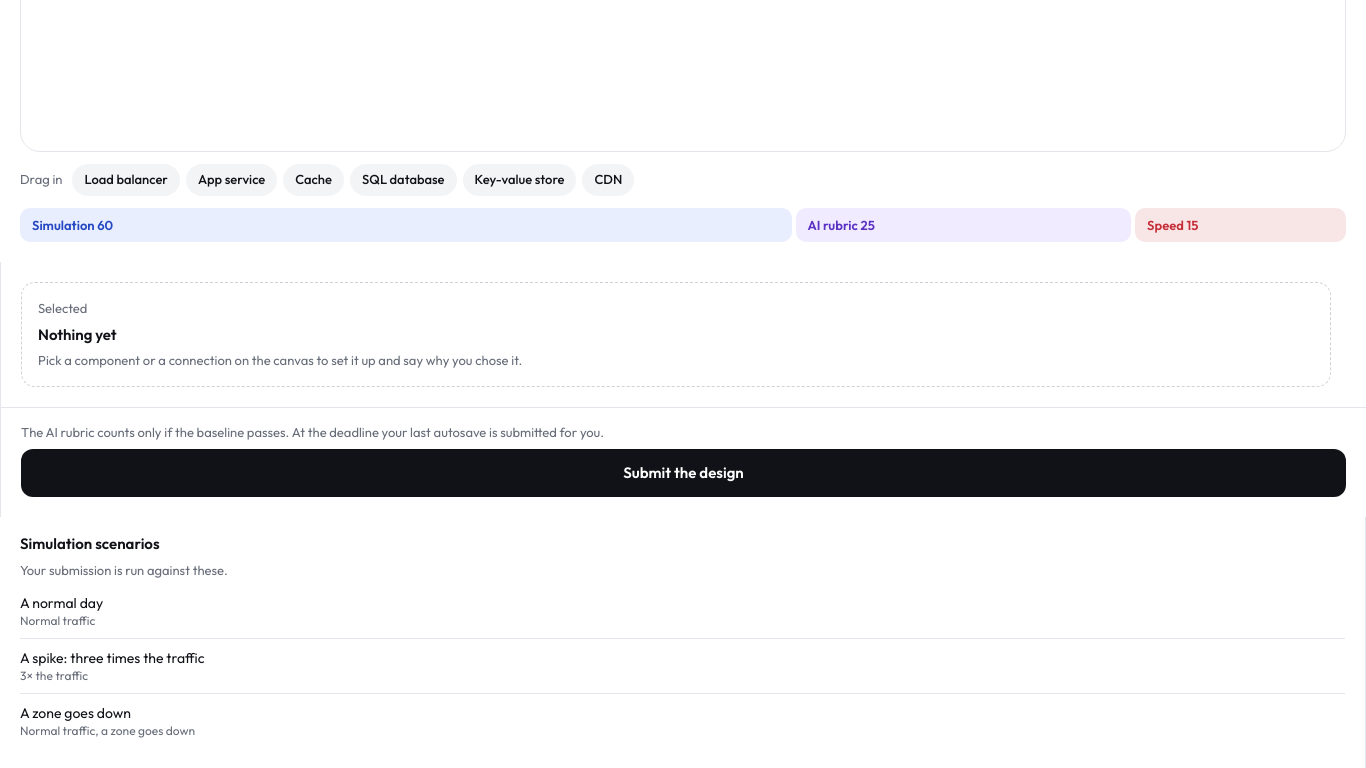
Test: a match: no verdicts before the submit, the submission's verdicts after it
(page scrolled)
expect the text "simulation points" is not shown: met
What coordinates should you click on to do the following:
click the button "Submit the design"
I would click on:
 (684, 473)
Its box is x1=21 y1=449 x2=1346 y2=497.
(page scrolled)
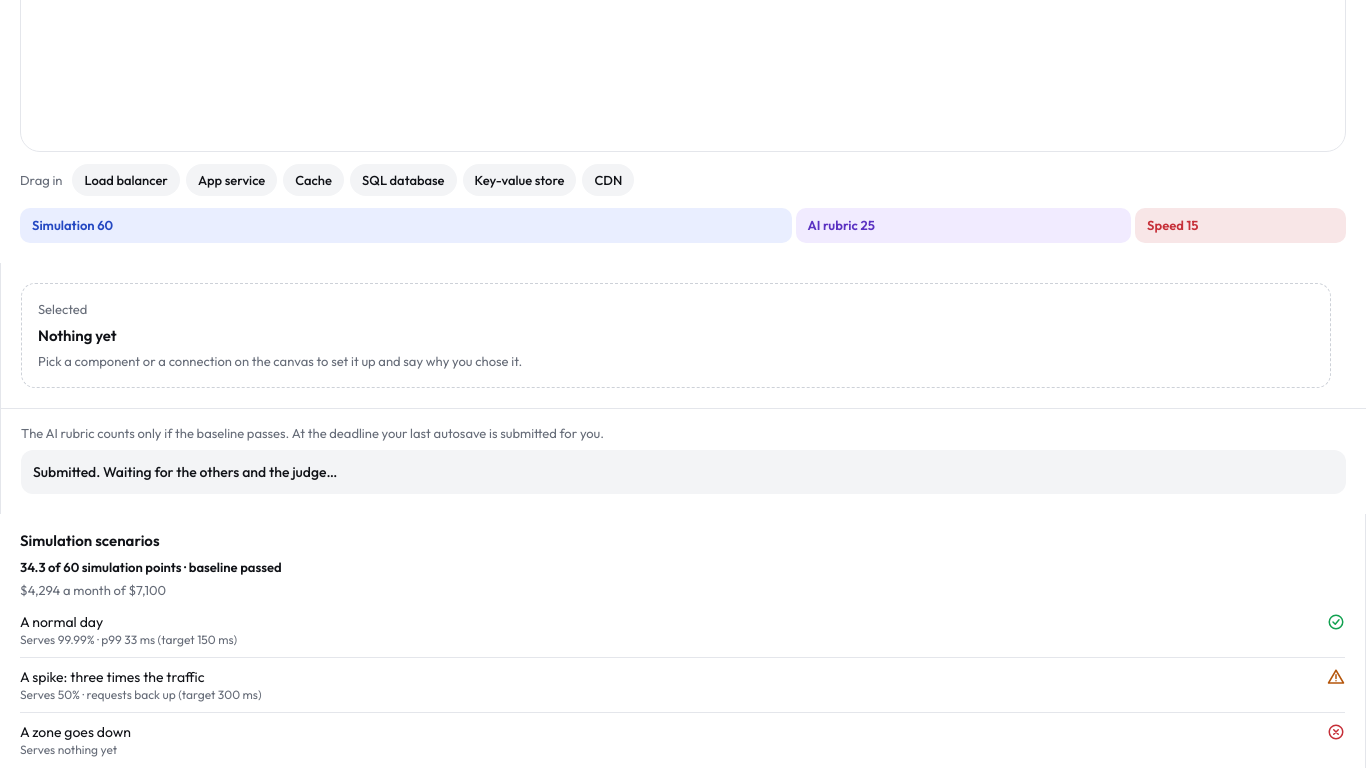
expect the text "Submitted." is shown: met, box x1=33 y1=463 x2=337 y2=481
expect the text "of 60 simulation points" is shown: met, box x1=46 y1=559 x2=186 y2=575
